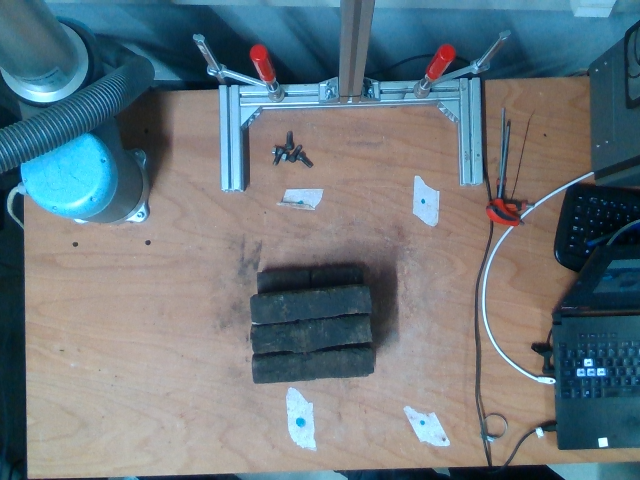brick-side: (252, 284, 369, 324), (255, 314, 372, 354), (251, 352, 373, 381)
